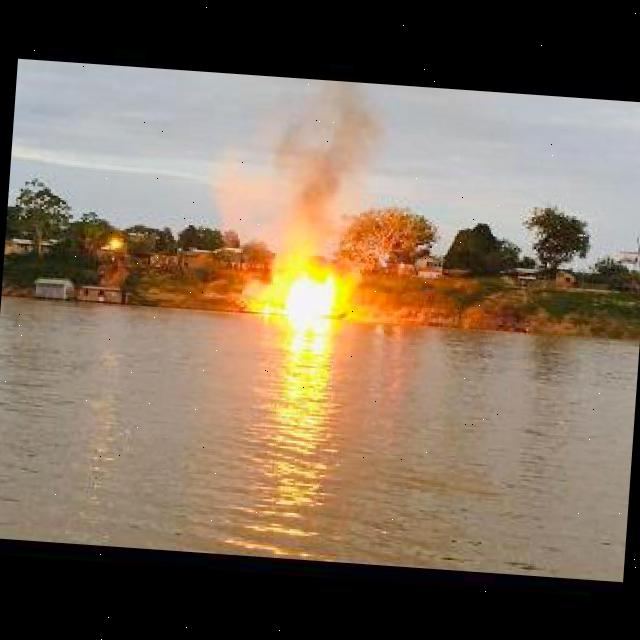fire: (252, 90, 386, 262), (252, 264, 344, 320)
